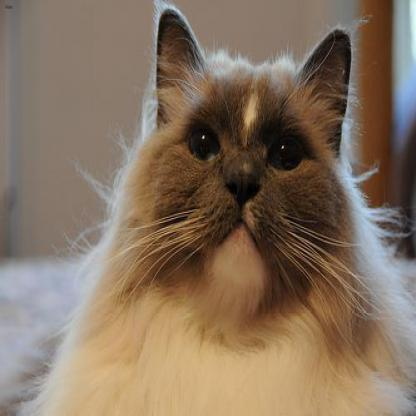cat: (27, 9, 415, 415)
